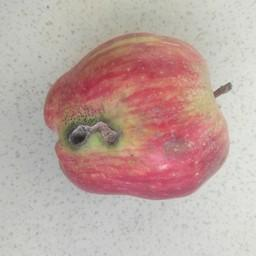Bad_apple: (43, 28, 232, 205)
